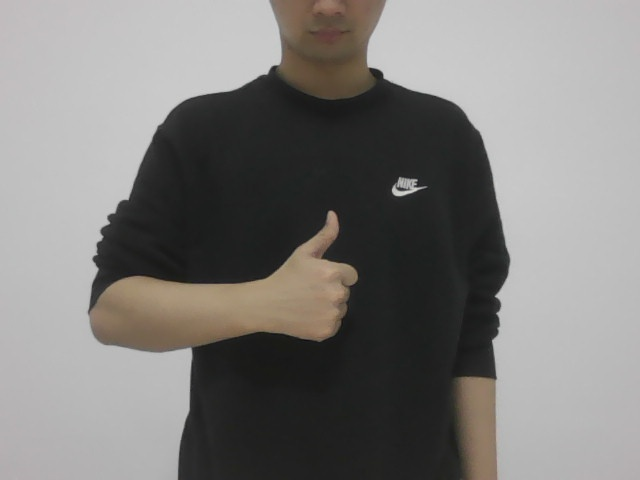good: (246, 200, 383, 349)
